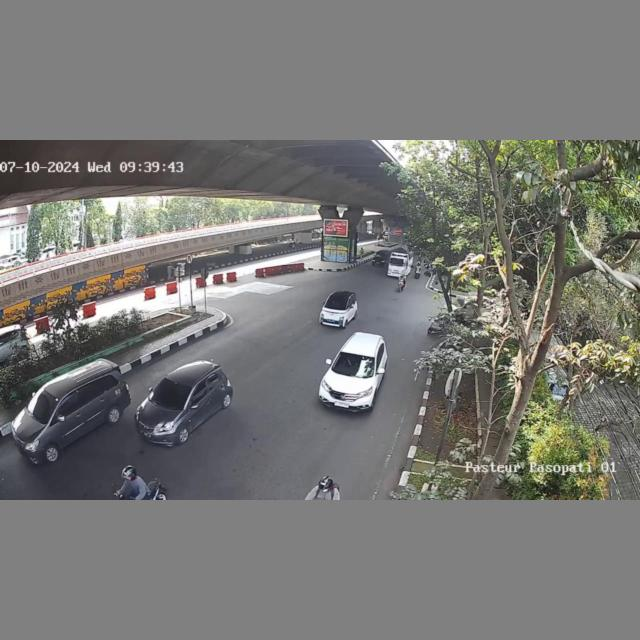windshield: (150, 378, 196, 410), (27, 388, 61, 426), (332, 352, 375, 376), (324, 298, 347, 310)
